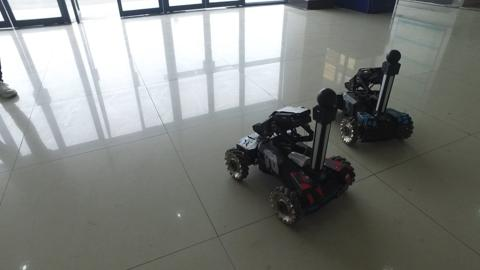chariot: (220, 83, 358, 226), (326, 47, 419, 148)
